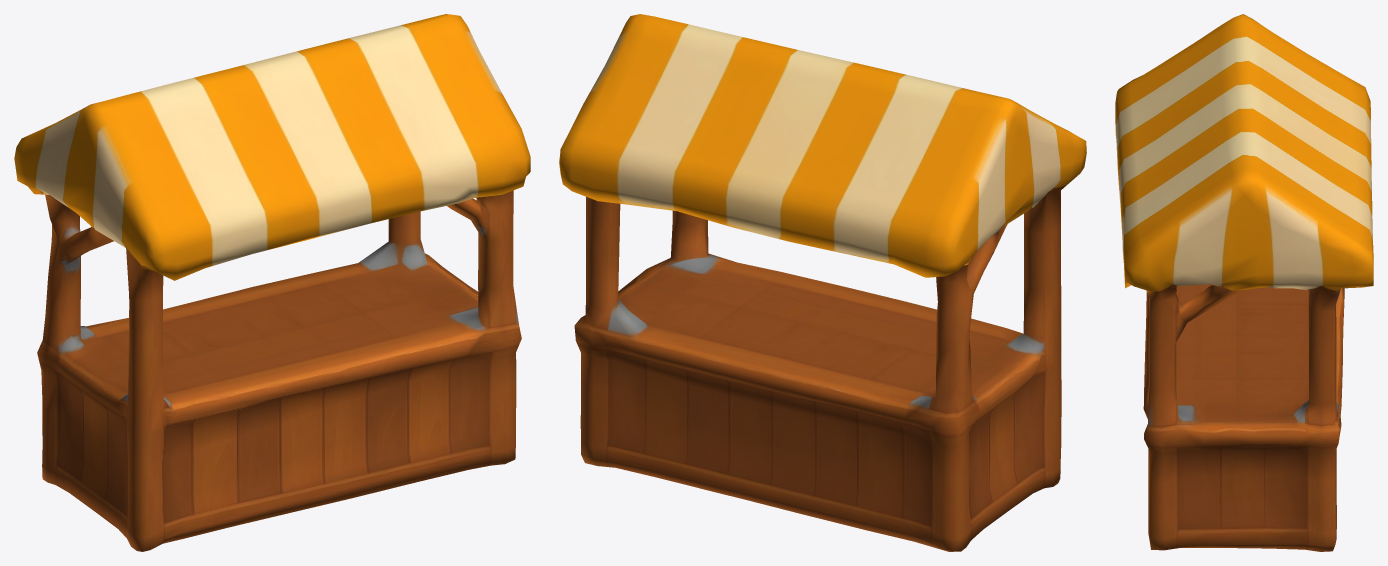
File: stall_tripo.glb
3 renders of one model, left to right at view 1: azimuth 30°, elevation 25°; view 2: azimuth 150°, elevation 25°; view 3: azimuth 270°, elevation 25°, orthographic. The views are drawn at different scales.
Parts seen in each view (by area): view 1: tripo_node_0cfd1c7a-81cf-47dd-a6bc-ff3362af8f09; view 2: tripo_node_0cfd1c7a-81cf-47dd-a6bc-ff3362af8f09; view 3: tripo_node_0cfd1c7a-81cf-47dd-a6bc-ff3362af8f09.
Part boxes in pixels (x1=…): tripo_node_0cfd1c7a-81cf-47dd-a6bc-ff3362af8f09: x1=14, y1=14, x2=530, y2=551; tripo_node_0cfd1c7a-81cf-47dd-a6bc-ff3362af8f09: x1=559, y1=14, x2=1086, y2=551; tripo_node_0cfd1c7a-81cf-47dd-a6bc-ff3362af8f09: x1=1115, y1=14, x2=1373, y2=551.
Size of the model in its own units: 0.9782 by 0.9788 by 0.6104.
Materials: 1 (1 with a texture image).
